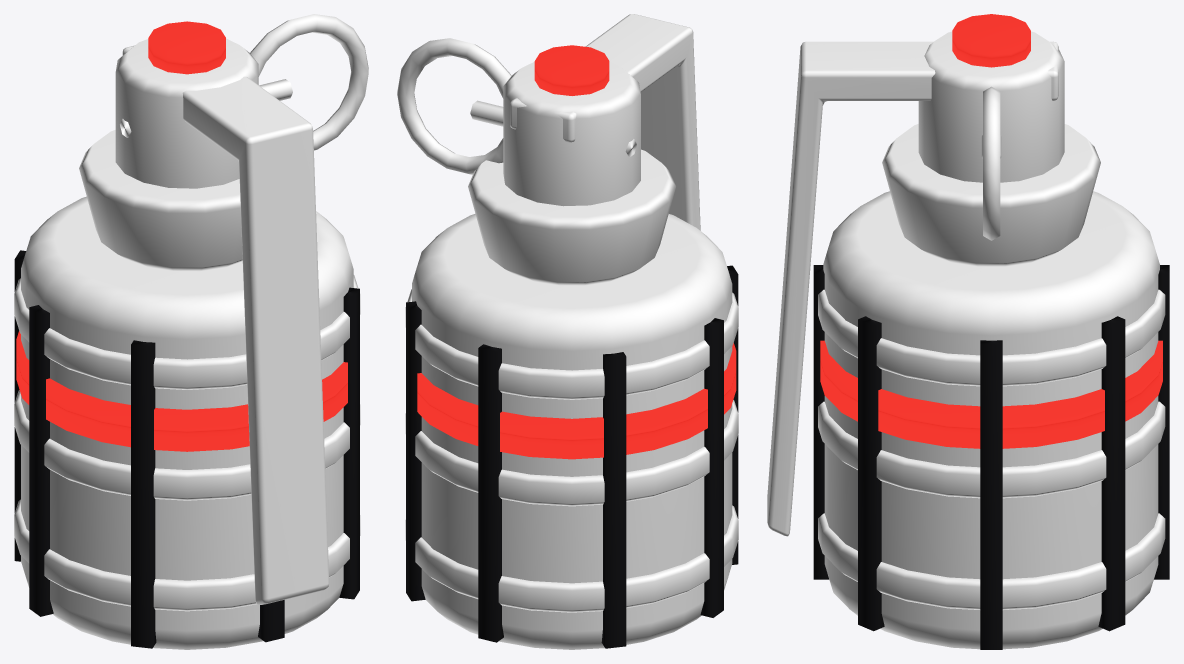
The model's file is grenade.glb.
The picture shows the model from 3 angles, left to right: view 1: azimuth 30°, elevation 25°; view 2: azimuth 150°, elevation 25°; view 3: azimuth 270°, elevation 25°; orthographic projection. The views are drawn at different scales.
Parts seen in each view (by area): view 1: shell, lever, neck, fuze, glow_band, groove.005, band.002, band, band.001, groove.004, groove.007, pin_ring (+4 smaller); view 2: shell, neck, fuze, lever, glow_band, band.002, band, band.001, groove.003, groove.002, groove.004, pin_ring (+4 smaller); view 3: shell, lever, neck, fuze, glow_band, band, band.002, band.001, groove.001, groove, groove.007, button (+3 smaller).
Boxes of the visible parts, x1,y1,x2,y2 form: shell: (21, 196, 353, 649); lever: (122, 45, 329, 604); neck: (79, 130, 242, 271); fuze: (115, 38, 258, 188); glow_band: (16, 331, 347, 451); groove.005: (131, 340, 156, 648); band.002: (14, 275, 360, 389); band: (14, 499, 360, 611); band.001: (14, 390, 360, 500); groove.004: (29, 305, 53, 616); groove.007: (339, 287, 359, 599); pin_ring: (250, 14, 368, 150); shell: (412, 214, 732, 649); neck: (468, 149, 675, 285); fuze: (503, 62, 640, 206); lever: (510, 14, 700, 230); glow_band: (417, 343, 736, 459); band.002: (405, 289, 738, 399); band: (405, 505, 738, 612); band.001: (405, 400, 738, 506); groove.003: (601, 352, 626, 648); groove.002: (478, 344, 503, 642); groove.004: (700, 318, 723, 617); pin_ring: (397, 38, 511, 174); shell: (823, 191, 1159, 649); lever: (767, 41, 1058, 536); neck: (882, 124, 1100, 266); fuze: (918, 31, 1064, 182); glow_band: (820, 340, 1162, 448); band: (818, 513, 1165, 609); band.002: (818, 289, 1165, 386); band.001: (818, 401, 1165, 498); groove.001: (1098, 316, 1125, 631); groove: (980, 340, 1002, 649); groove.007: (858, 316, 884, 631); button: (952, 14, 1030, 67).
Size of the model in its own units: 0.0695 by 0.11 by 0.0716.
